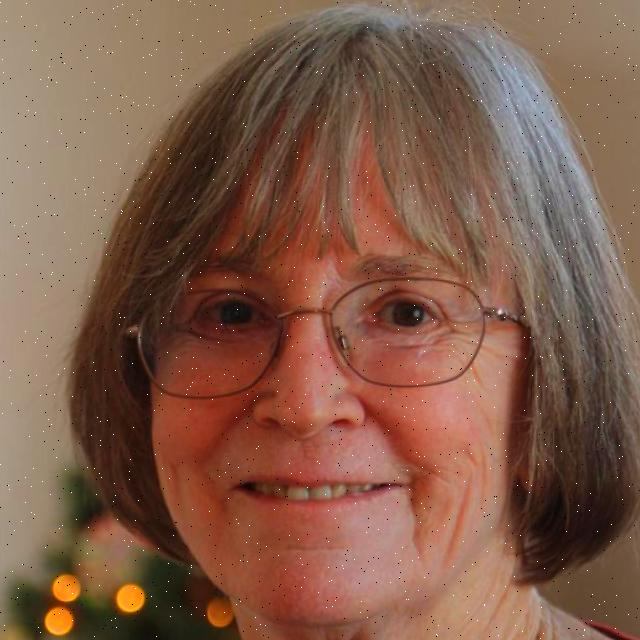puffy_eyes: (369, 329, 454, 350), (179, 329, 264, 349)
